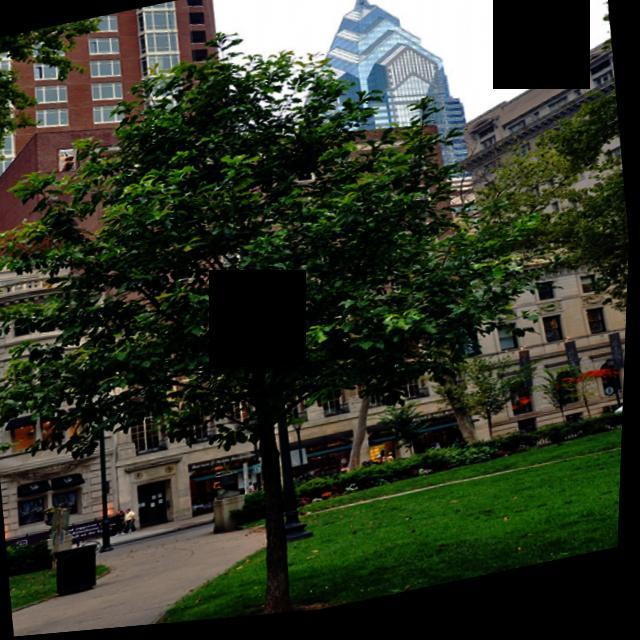Tree: (1, 4, 542, 640), (452, 1, 640, 483), (1, 19, 110, 173)
